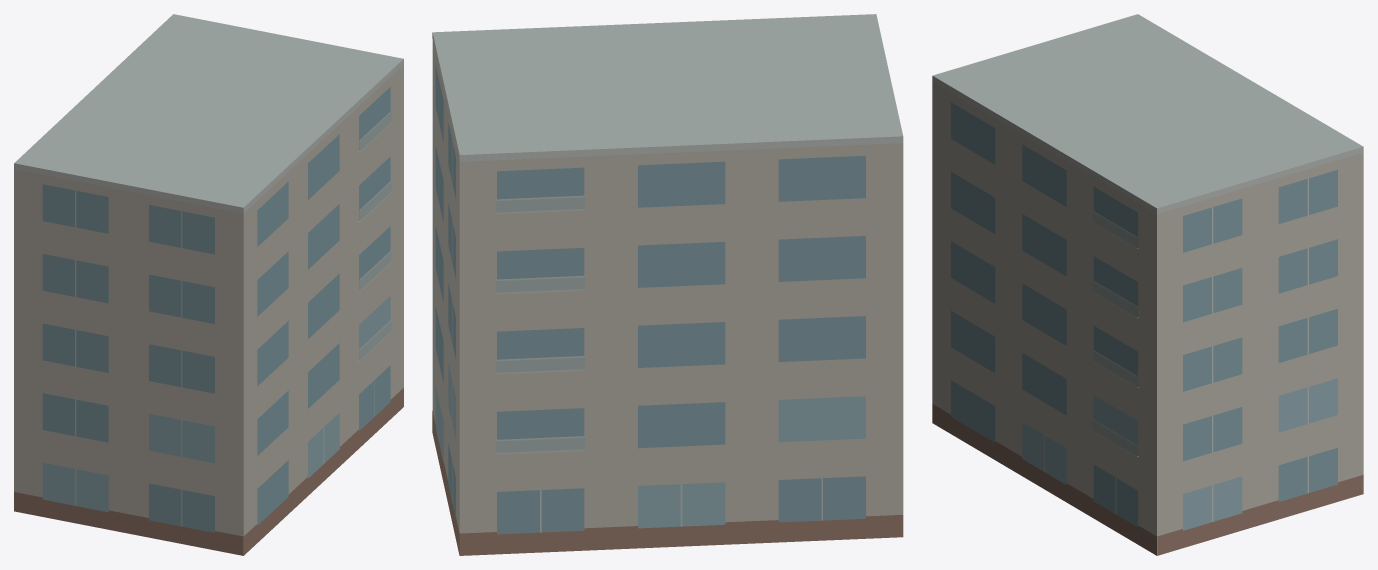
Rendered from survey-upis-32980371.glb.
3 views of the same model, side by side, from view 1: azimuth 30°, elevation 25°; view 2: azimuth 150°, elevation 25°; view 3: azimuth 270°, elevation 25° (orthographic). The views are drawn at different scales.
Visible parts, largest first — view 1: survey-upis-32980371.tmp; view 2: survey-upis-32980371.tmp; view 3: survey-upis-32980371.tmp.
Boxes of the visible parts, left/top/right/bottom form: survey-upis-32980371.tmp: left=14, top=14, right=403, bottom=555; survey-upis-32980371.tmp: left=432, top=14, right=903, bottom=555; survey-upis-32980371.tmp: left=932, top=14, right=1363, bottom=555.
Bounding box in the file's own units: 17.47 × 14.55 × 16.37.
